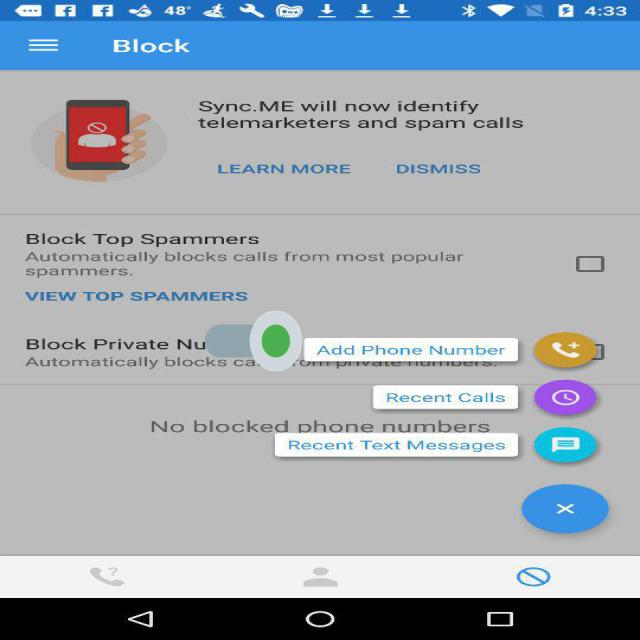social proof: (205, 285, 302, 397)
